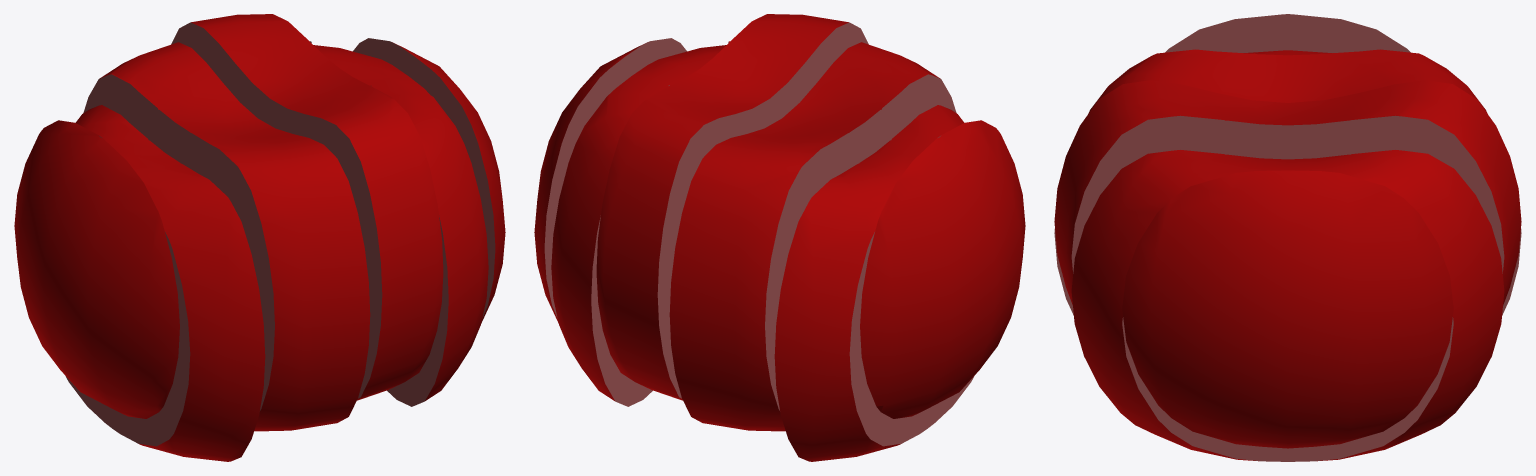
File: 6of6Tomato.fbx
The picture shows the model from 3 angles, left to right: view 1: azimuth 30°, elevation 25°; view 2: azimuth 150°, elevation 25°; view 3: azimuth 270°, elevation 25°; orthographic projection. The views are drawn at different scales.
Parts seen in each view (by area): view 1: pSphere1; view 2: pSphere1; view 3: pSphere1.
Boxes of the visible parts, x1,y1,x2,y2 form: pSphere1: (14,14,505,461); pSphere1: (534,14,1025,461); pSphere1: (1054,14,1521,461).
Size of the model in its own units: 2.23 by 1.56 by 2.
